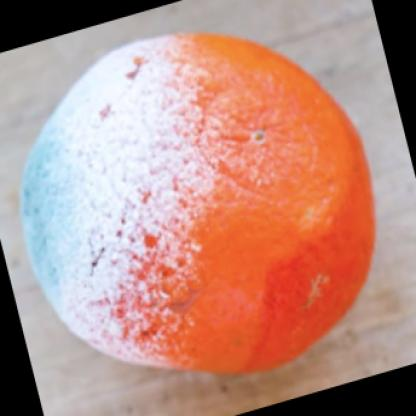rotten: (24, 35, 377, 372)
